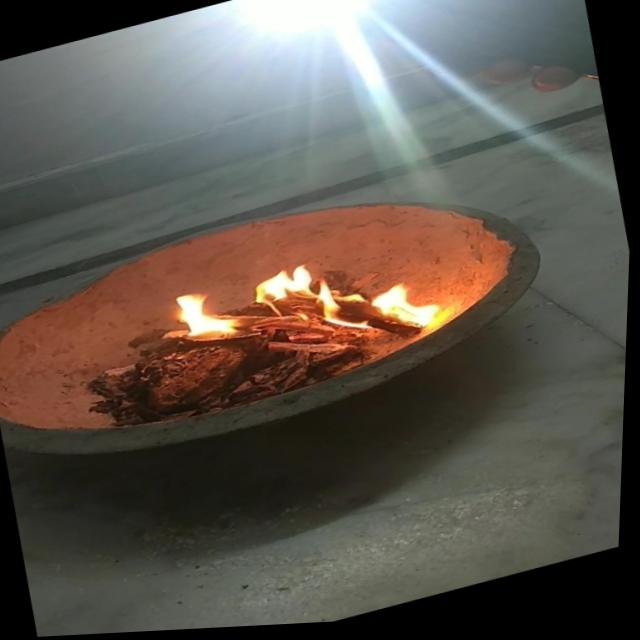fire: (245, 249, 363, 358), (356, 265, 452, 352), (157, 277, 254, 363)
